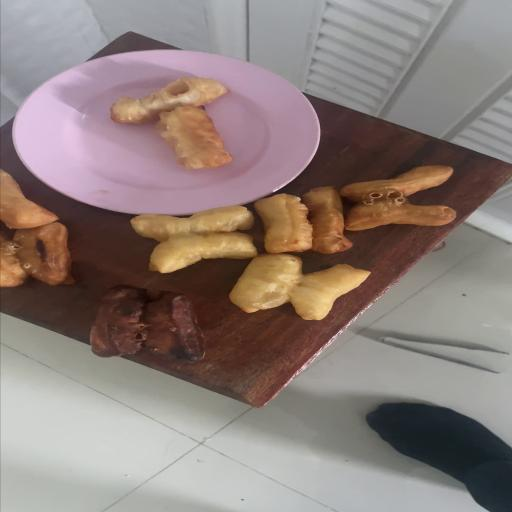street_burnt_defect: (89, 287, 205, 361)
street_golden_good: (130, 205, 255, 273)
